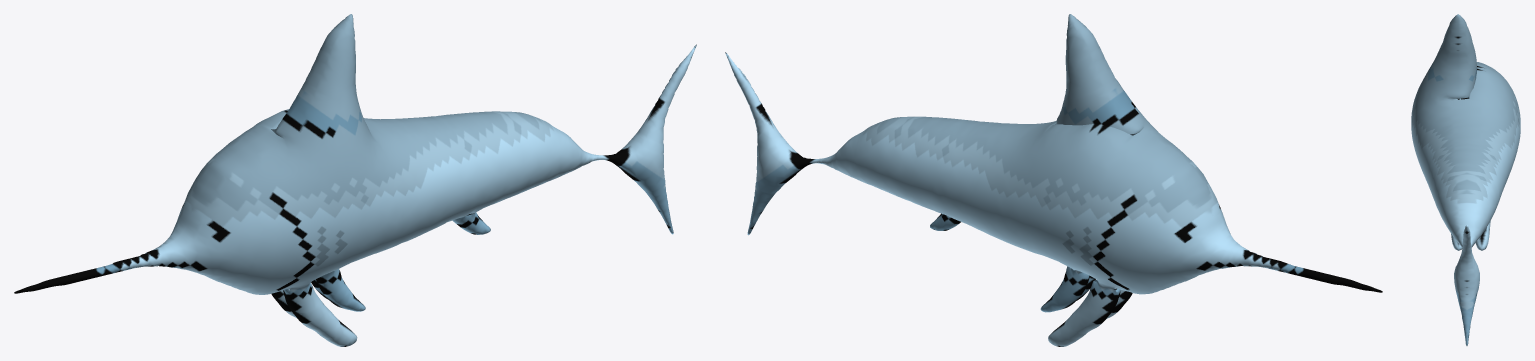
File: realest swordfish.fbx
3 views of the same model, side by side, from view 1: azimuth 30°, elevation 25°; view 2: azimuth 150°, elevation 25°; view 3: azimuth 270°, elevation 25° (orthographic). The views are drawn at different scales.
Parts seen in each view (by area): view 1: Mesh_0.003; view 2: Mesh_0.003; view 3: Mesh_0.003.
Part boxes in pixels (x1=…): Mesh_0.003: x1=14, y1=14, x2=696, y2=346; Mesh_0.003: x1=725, y1=14, x2=1382, y2=346; Mesh_0.003: x1=1411, y1=14, x2=1520, y2=345.
Bounding box in the file's own units: 920 × 427 × 179.
1 material, 1 textured.
